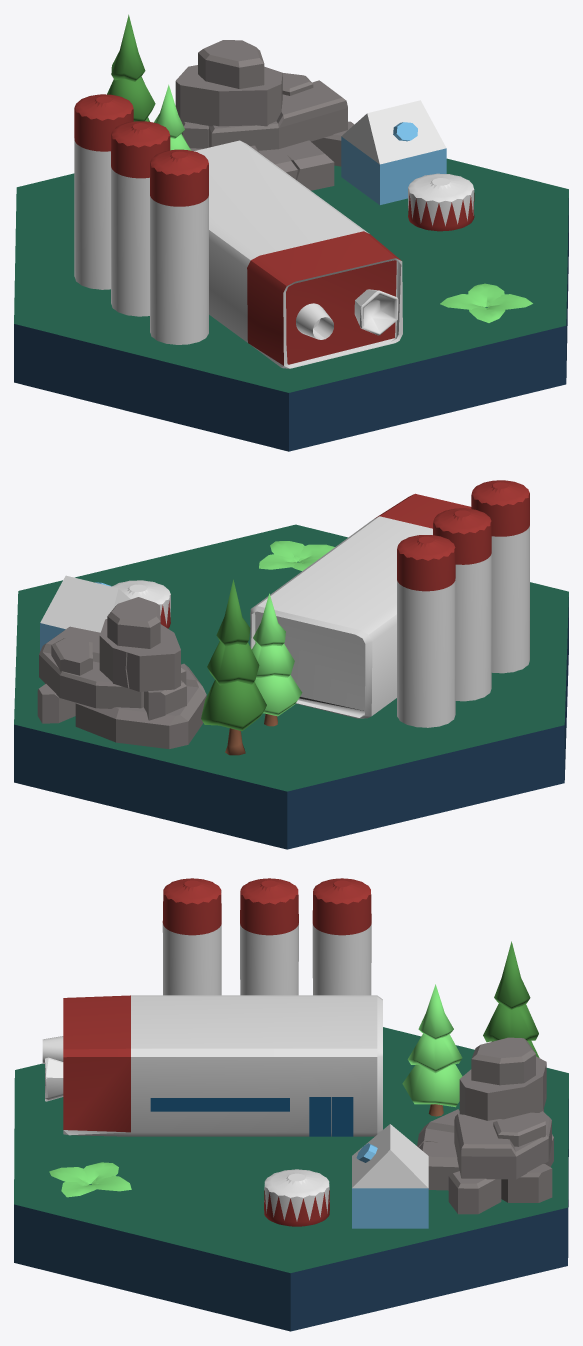
Rendered from Macro - Electric lvl 3 WM1.fbx.
3 views of the same model, one above another, from view 1: azimuth 30°, elevation 25°; view 2: azimuth 150°, elevation 25°; view 3: azimuth 270°, elevation 25° (orthographic).
Parts seen in each view (by area): view 1: Cylinder.154, Cube battery.011, Rock Type1 02 mesh.013, Cylinder battery, Cylinder battery.004, milkbox1.011, Cylinder battery.005, Cylinder battery.001, Tree_Spruce_tiny_01.002, Plane.011, Tree_Spruce_tiny_01.001; view 2: Cylinder.154, Cube battery.011, Rock Type1 02 mesh.013, Cylinder battery.005, Cylinder battery, Cylinder battery.004, Tree_Spruce_tiny_01.002, Tree_Spruce_tiny_01.001, milkbox1.011, Plane.011, Cylinder battery.001; view 3: Cylinder.154, Cube battery.011, Rock Type1 02 mesh.013, milkbox1.011, Cylinder battery.005, Cylinder battery, Cylinder battery.004, Tree_Spruce_tiny_01.001, Cylinder battery.001, Tree_Spruce_tiny_01.002, Plane.002, Plane.011 (+2 smaller).
Boxes of the visible parts, x1=… form: Cylinder.154: x1=14, y1=158, x2=568, y2=451; Cube battery.011: x1=194, y1=140, x2=402, y2=368; Rock Type1 02 mesh.013: x1=175, y1=40, x2=354, y2=190; Cylinder battery: x1=150, y1=149, x2=208, y2=344; Cylinder battery.004: x1=111, y1=121, x2=170, y2=316; milkbox1.011: x1=341, y1=100, x2=446, y2=204; Cylinder battery.005: x1=74, y1=94, x2=133, y2=289; Cylinder battery.001: x1=408, y1=173, x2=474, y2=231; Tree_Spruce_tiny_01.002: x1=107, y1=14, x2=155, y2=121; Plane.011: x1=440, y1=283, x2=532, y2=322; Tree_Spruce_tiny_01.001: x1=154, y1=84, x2=191, y2=150; Cylinder.154: x1=14, y1=524, x2=568, y2=849; Cube battery.011: x1=250, y1=493, x2=471, y2=718; Rock Type1 02 mesh.013: x1=37, y1=597, x2=206, y2=749; Cylinder battery.005: x1=397, y1=535, x2=455, y2=727; Cylinder battery: x1=471, y1=480, x2=529, y2=673; Cylinder battery.004: x1=433, y1=508, x2=491, y2=701; Tree_Spruce_tiny_01.002: x1=201, y1=579, x2=266, y2=755; Tree_Spruce_tiny_01.001: x1=251, y1=593, x2=302, y2=726; milkbox1.011: x1=40, y1=575, x2=130, y2=651; Plane.011: x1=259, y1=541, x2=334, y2=570; Cylinder battery.001: x1=112, y1=580, x2=170, y2=628; Cylinder.154: x1=14, y1=1027, x2=568, y2=1331; Cube battery.011: x1=42, y1=995, x2=382, y2=1136; Rock Type1 02 mesh.013: x1=417, y1=1037, x2=553, y2=1214; milkbox1.011: x1=352, y1=1124, x2=428, y2=1228; Cylinder battery.005: x1=312, y1=878, x2=371, y2=995; Cylinder battery: x1=162, y1=878, x2=221, y2=995; Cylinder battery.004: x1=240, y1=878, x2=298, y2=995; Tree_Spruce_tiny_01.001: x1=402, y1=984, x2=462, y2=1116; Cylinder battery.001: x1=264, y1=1169, x2=329, y2=1226; Tree_Spruce_tiny_01.002: x1=483, y1=941, x2=539, y2=1057; Plane.002: x1=150, y1=1098, x2=289, y2=1111; Plane.011: x1=49, y1=1162, x2=131, y2=1197.
Size of the model in its own units: 197 by 80.5 by 172.
